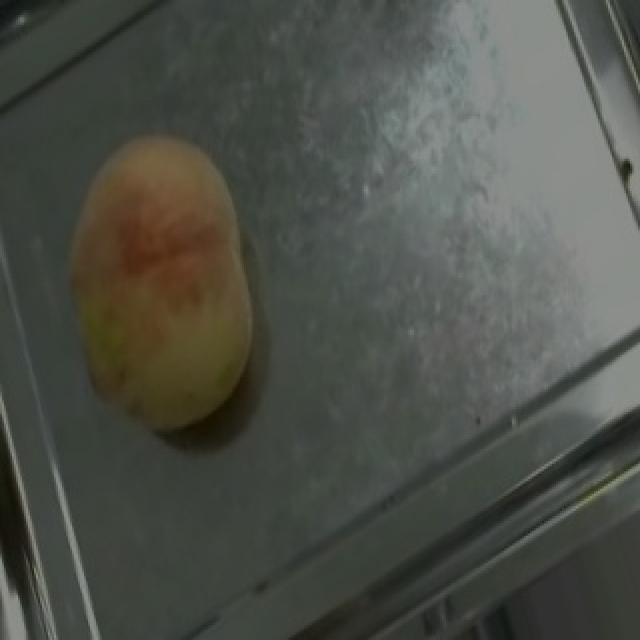Fruit: (24, 92, 302, 466)
